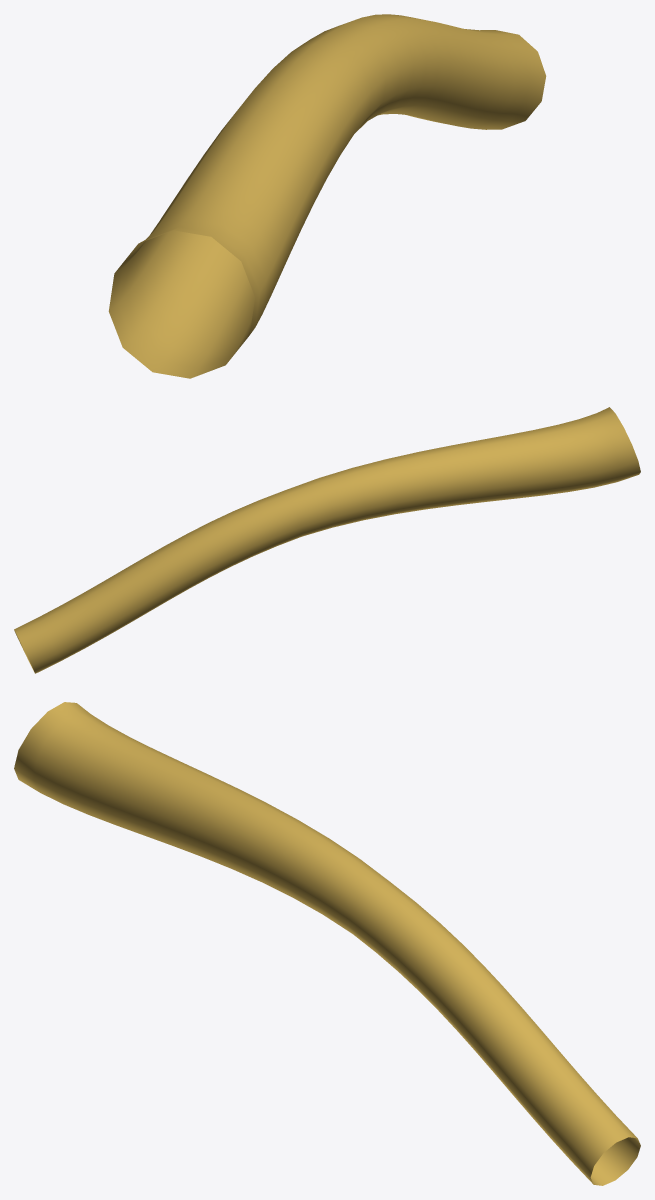
The picture shows the model from 3 angles, top to bottom: view 1: azimuth 30°, elevation 25°; view 2: azimuth 150°, elevation 25°; view 3: azimuth 270°, elevation 25°; orthographic projection. The views are drawn at different scales.
Parts seen in each view (by area): view 1: 左侧臂丛下干前股; view 2: 左侧臂丛下干前股; view 3: 左侧臂丛下干前股.
Boxes of the visible parts, left/top/right/bottom form: 左侧臂丛下干前股: left=108, top=14, right=546, bottom=378; 左侧臂丛下干前股: left=14, top=407, right=640, bottom=673; 左侧臂丛下干前股: left=14, top=702, right=640, bottom=1185.
Bounding box in the file's own units: 0.0286 × 0.0126 × 0.0287.
